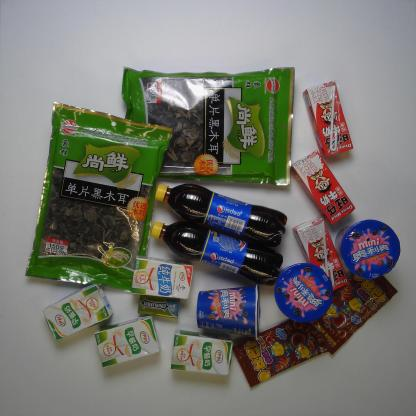Candy: (300, 254, 402, 358), (228, 308, 339, 392)
Dessert: (195, 281, 268, 344), (272, 260, 338, 326), (334, 218, 400, 280)
Dried Food: (21, 96, 178, 296), (112, 61, 300, 190)
Drink: (150, 180, 291, 252), (148, 220, 287, 288)
Gum: (134, 291, 182, 321)
Milk: (288, 149, 358, 228), (292, 214, 350, 298), (42, 279, 113, 343), (302, 77, 354, 163), (93, 312, 163, 370), (170, 326, 238, 378), (127, 254, 198, 302)
